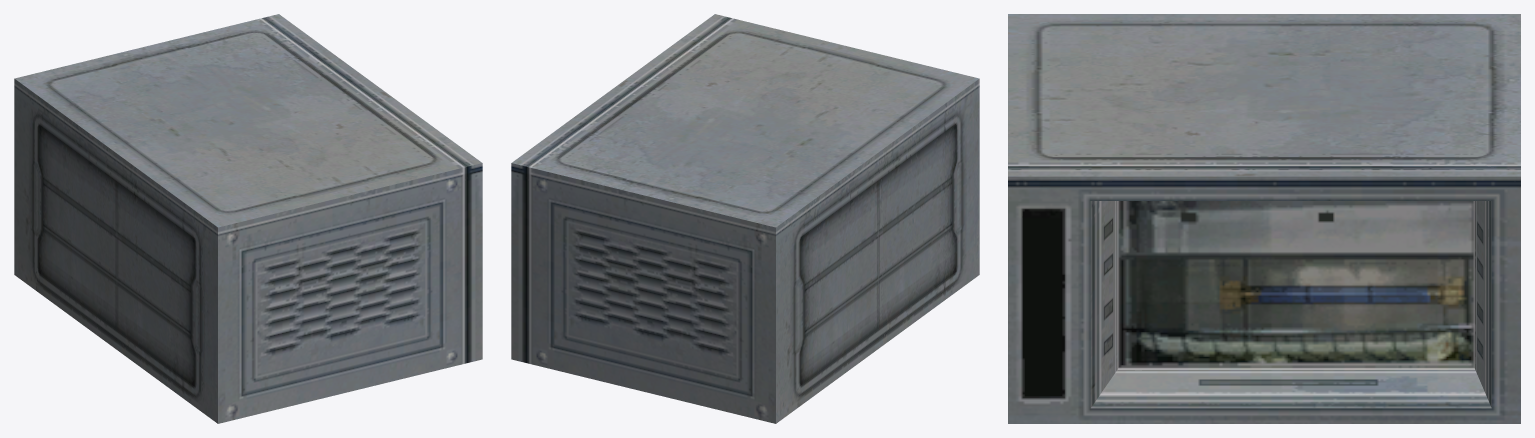
The model's file is Building_Kitchencabinet01.glb.
3 views of the same model, side by side, from view 1: azimuth 30°, elevation 25°; view 2: azimuth 150°, elevation 25°; view 3: azimuth 270°, elevation 25° (orthographic). The views are drawn at different scales.
Visible parts, largest first — view 1: xiutz_kitchencabinet_01; view 2: xiutz_kitchencabinet_01; view 3: xiutz_kitchencabinet_01.
Boxes of the visible parts, bbox=[...] form: xiutz_kitchencabinet_01: bbox=[14, 14, 482, 423]; xiutz_kitchencabinet_01: bbox=[511, 14, 979, 423]; xiutz_kitchencabinet_01: bbox=[1008, 14, 1520, 423].
Bounding box in the file's own units: 0.6 × 0.4258 × 0.8.
Materials: 1 (1 with a texture image).
